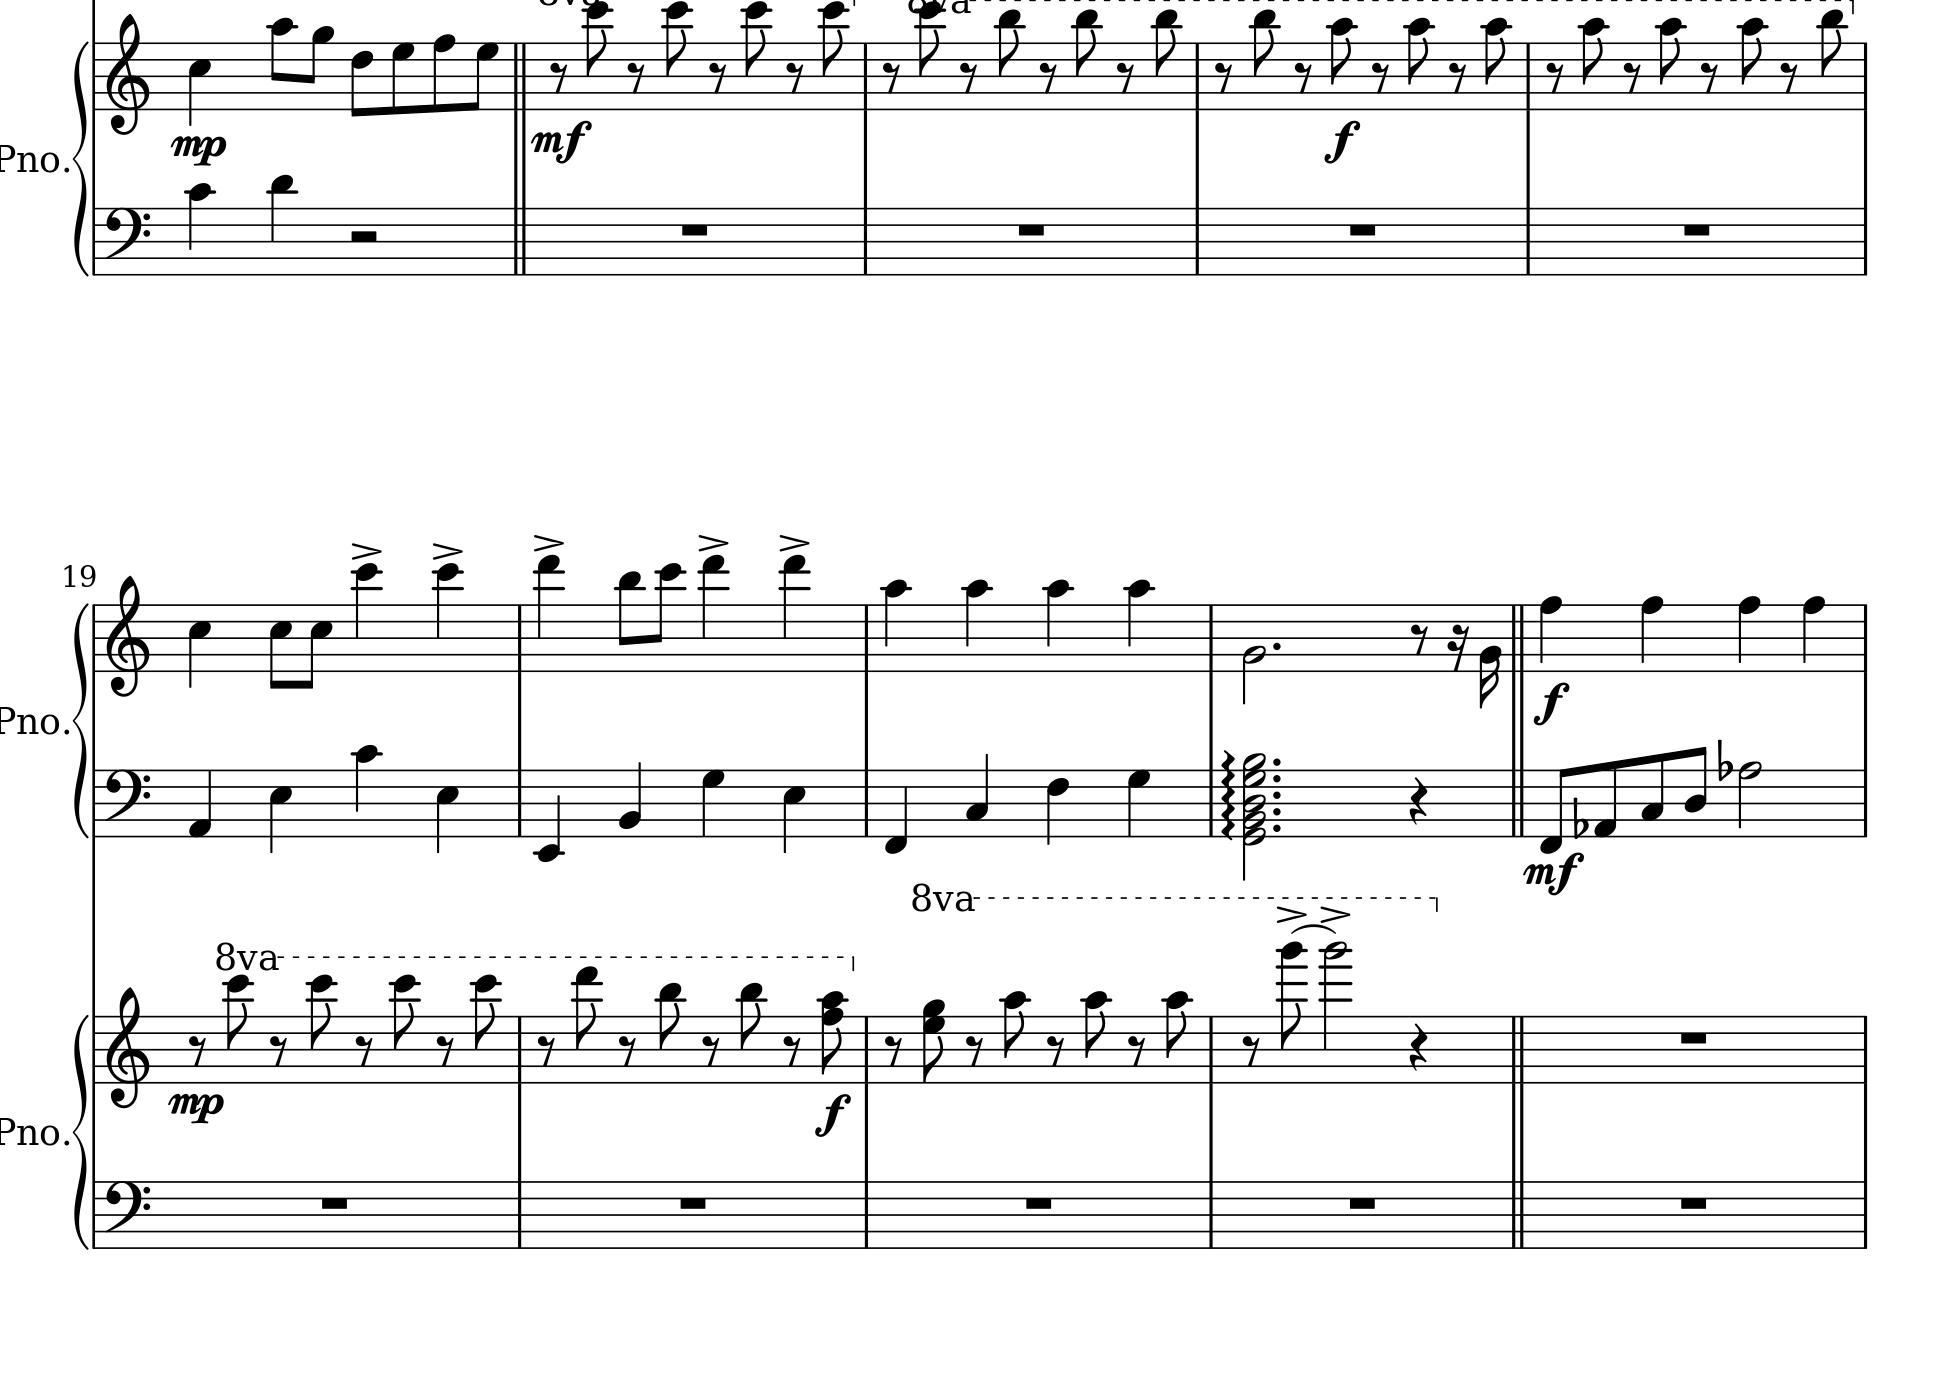1: (61, 561, 76, 589)
16_2: (1477, 600, 1503, 709)
2_16: (1320, 940, 1353, 1087)
2_2: (1242, 601, 1266, 706)
2_5th: (1240, 748, 1269, 880)
2_8: (1737, 759, 1764, 840)
4_-1: (883, 766, 910, 855)
4_-2: (534, 766, 562, 862)
4_1: (187, 768, 214, 838)
4_10: (184, 181, 214, 277), (961, 577, 991, 673), (882, 577, 910, 673), (1044, 577, 1072, 673), (1125, 577, 1153, 673), (352, 742, 379, 838)
4_11: (267, 172, 297, 277)
4_12: (351, 561, 382, 673), (433, 561, 463, 673)
4_13: (534, 553, 564, 673), (697, 553, 727, 673), (781, 552, 808, 675)
4_2: (616, 759, 645, 838)
4_3: (964, 750, 991, 838)
4_5: (433, 766, 460, 855), (187, 39, 213, 129), (186, 601, 211, 691), (781, 766, 807, 855), (268, 766, 292, 855)
4_6: (1044, 766, 1071, 847)
4_7: (699, 766, 727, 838), (1126, 766, 1152, 838)
4_8: (1639, 592, 1665, 673), (1537, 592, 1563, 672), (1737, 594, 1762, 673), (1801, 594, 1827, 673)
8_-1: (1539, 765, 1572, 853)
8_1: (1593, 757, 1620, 840)
8_10: (1737, 16, 1770, 112), (1080, 990, 1113, 1084), (1327, 15, 1359, 111), (1482, 16, 1513, 112), (1656, 16, 1687, 112), (1000, 988, 1030, 1086), (1404, 16, 1434, 112), (1579, 16, 1609, 112), (1164, 990, 1194, 1086), (268, 16, 295, 112)
8_11: (1071, 7, 1104, 112), (994, 7, 1026, 112), (1249, 7, 1281, 112), (1152, 7, 1183, 111), (1818, 7, 1848, 112), (655, 982, 685, 1086), (736, 984, 766, 1086), (616, 568, 643, 673)
8_12: (652, 559, 685, 673), (388, 972, 421, 1086), (739, 1, 772, 114), (469, 973, 501, 1086), (582, 1, 613, 112), (661, 1, 693, 112), (819, 1, 850, 112), (307, 973, 337, 1086), (223, 973, 253, 1084), (916, 1, 943, 112)
8_13: (571, 964, 601, 1086)
8_16: (1278, 937, 1308, 1086)
8_3: (1639, 751, 1666, 840)
8_4: (1683, 744, 1708, 840)
8_5: (301, 601, 333, 690), (268, 601, 292, 690)
8_6: (349, 40, 373, 118)
8_7: (468, 40, 499, 112), (390, 40, 415, 115)
8_8: (430, 31, 456, 114)
8_9: (304, 24, 334, 112)
9: (79, 559, 96, 589)
Accent_above: (1317, 904, 1353, 922), (532, 532, 565, 552), (778, 532, 811, 552), (430, 540, 463, 559), (1275, 903, 1308, 922), (697, 532, 729, 552), (349, 541, 382, 559)
Arpeggio: (1221, 745, 1237, 841)
Brace: (70, 1011, 90, 1251), (70, 600, 90, 837), (70, 40, 90, 276)
Double_barline: (1503, 1177, 1533, 1249), (505, 205, 534, 274), (1504, 1014, 1531, 1081), (1506, 603, 1531, 670), (1506, 769, 1530, 835), (508, 40, 531, 109)
Fclef: (100, 205, 151, 277), (102, 766, 151, 837), (102, 1177, 151, 1240)
Flat: (1716, 736, 1734, 784), (1572, 795, 1590, 838)
Gclef: (103, 573, 151, 699), (103, 985, 151, 1108), (103, 10, 150, 136)
Pno: (1, 141, 60, 175), (1, 703, 60, 738), (1, 1114, 61, 1147)
Rests1: (676, 219, 712, 238), (316, 1192, 352, 1212), (1014, 219, 1048, 238), (1345, 219, 1380, 238), (1680, 219, 1714, 238), (676, 1192, 711, 1212), (1677, 1027, 1711, 1045), (1021, 1192, 1056, 1210), (1677, 1192, 1711, 1210), (1347, 1192, 1380, 1210)
Rests16: (1446, 622, 1471, 673)
Rests2: (346, 228, 381, 246)
Rests4: (1407, 775, 1431, 828), (1407, 1021, 1431, 1074)
Rests8: (184, 1033, 208, 1066), (624, 58, 646, 91), (547, 58, 568, 93), (1545, 58, 1566, 93), (1410, 621, 1431, 655), (535, 1032, 556, 1066), (616, 1032, 637, 1066), (700, 1032, 721, 1066), (883, 1033, 904, 1068), (706, 58, 727, 91), (784, 58, 805, 91), (880, 58, 901, 91), (1038, 58, 1059, 91), (1212, 58, 1233, 91), (1293, 58, 1314, 91), (1779, 58, 1800, 91), (781, 1033, 802, 1066), (1045, 1033, 1066, 1066), (1240, 1033, 1261, 1066), (1371, 58, 1390, 93), (435, 1032, 454, 1066), (958, 58, 978, 91), (1699, 58, 1719, 91), (268, 1033, 288, 1066), (354, 1033, 373, 1066), (964, 1033, 984, 1066), (1126, 1033, 1146, 1066), (1116, 58, 1135, 90), (1447, 60, 1467, 91), (1623, 60, 1642, 91)
Single_barline: (856, 604, 876, 670), (1201, 604, 1221, 670), (510, 604, 529, 670), (856, 207, 874, 274), (1857, 604, 1875, 670), (1857, 40, 1873, 109), (1519, 207, 1536, 274), (511, 1180, 528, 1248), (1203, 1180, 1219, 1248), (1519, 42, 1536, 108), (1189, 208, 1206, 274), (859, 769, 876, 835), (1203, 769, 1219, 835), (1857, 769, 1873, 835), (511, 769, 528, 835), (1203, 1015, 1219, 1081), (858, 1180, 874, 1246), (856, 42, 873, 106), (1188, 42, 1204, 106), (858, 1015, 874, 1080), (1858, 1014, 1873, 1083), (1857, 1180, 1872, 1248), (1857, 208, 1872, 274), (511, 1015, 526, 1080), (88, 40, 102, 109), (88, 207, 102, 274), (88, 1180, 102, 1248), (88, 769, 102, 835), (88, 1015, 102, 1081), (88, 604, 100, 670)
Slur: (1290, 922, 1336, 934)
dot: (1269, 637, 1284, 652), (1270, 754, 1284, 768), (1270, 787, 1284, 801), (1270, 771, 1284, 783), (1270, 805, 1284, 817), (1270, 820, 1284, 832)
f: (1533, 679, 1572, 726), (1323, 118, 1362, 163), (813, 1092, 852, 1137)
mf: (528, 117, 594, 166), (1519, 850, 1585, 898)
mp: (166, 1089, 226, 1129), (168, 132, 229, 168)
